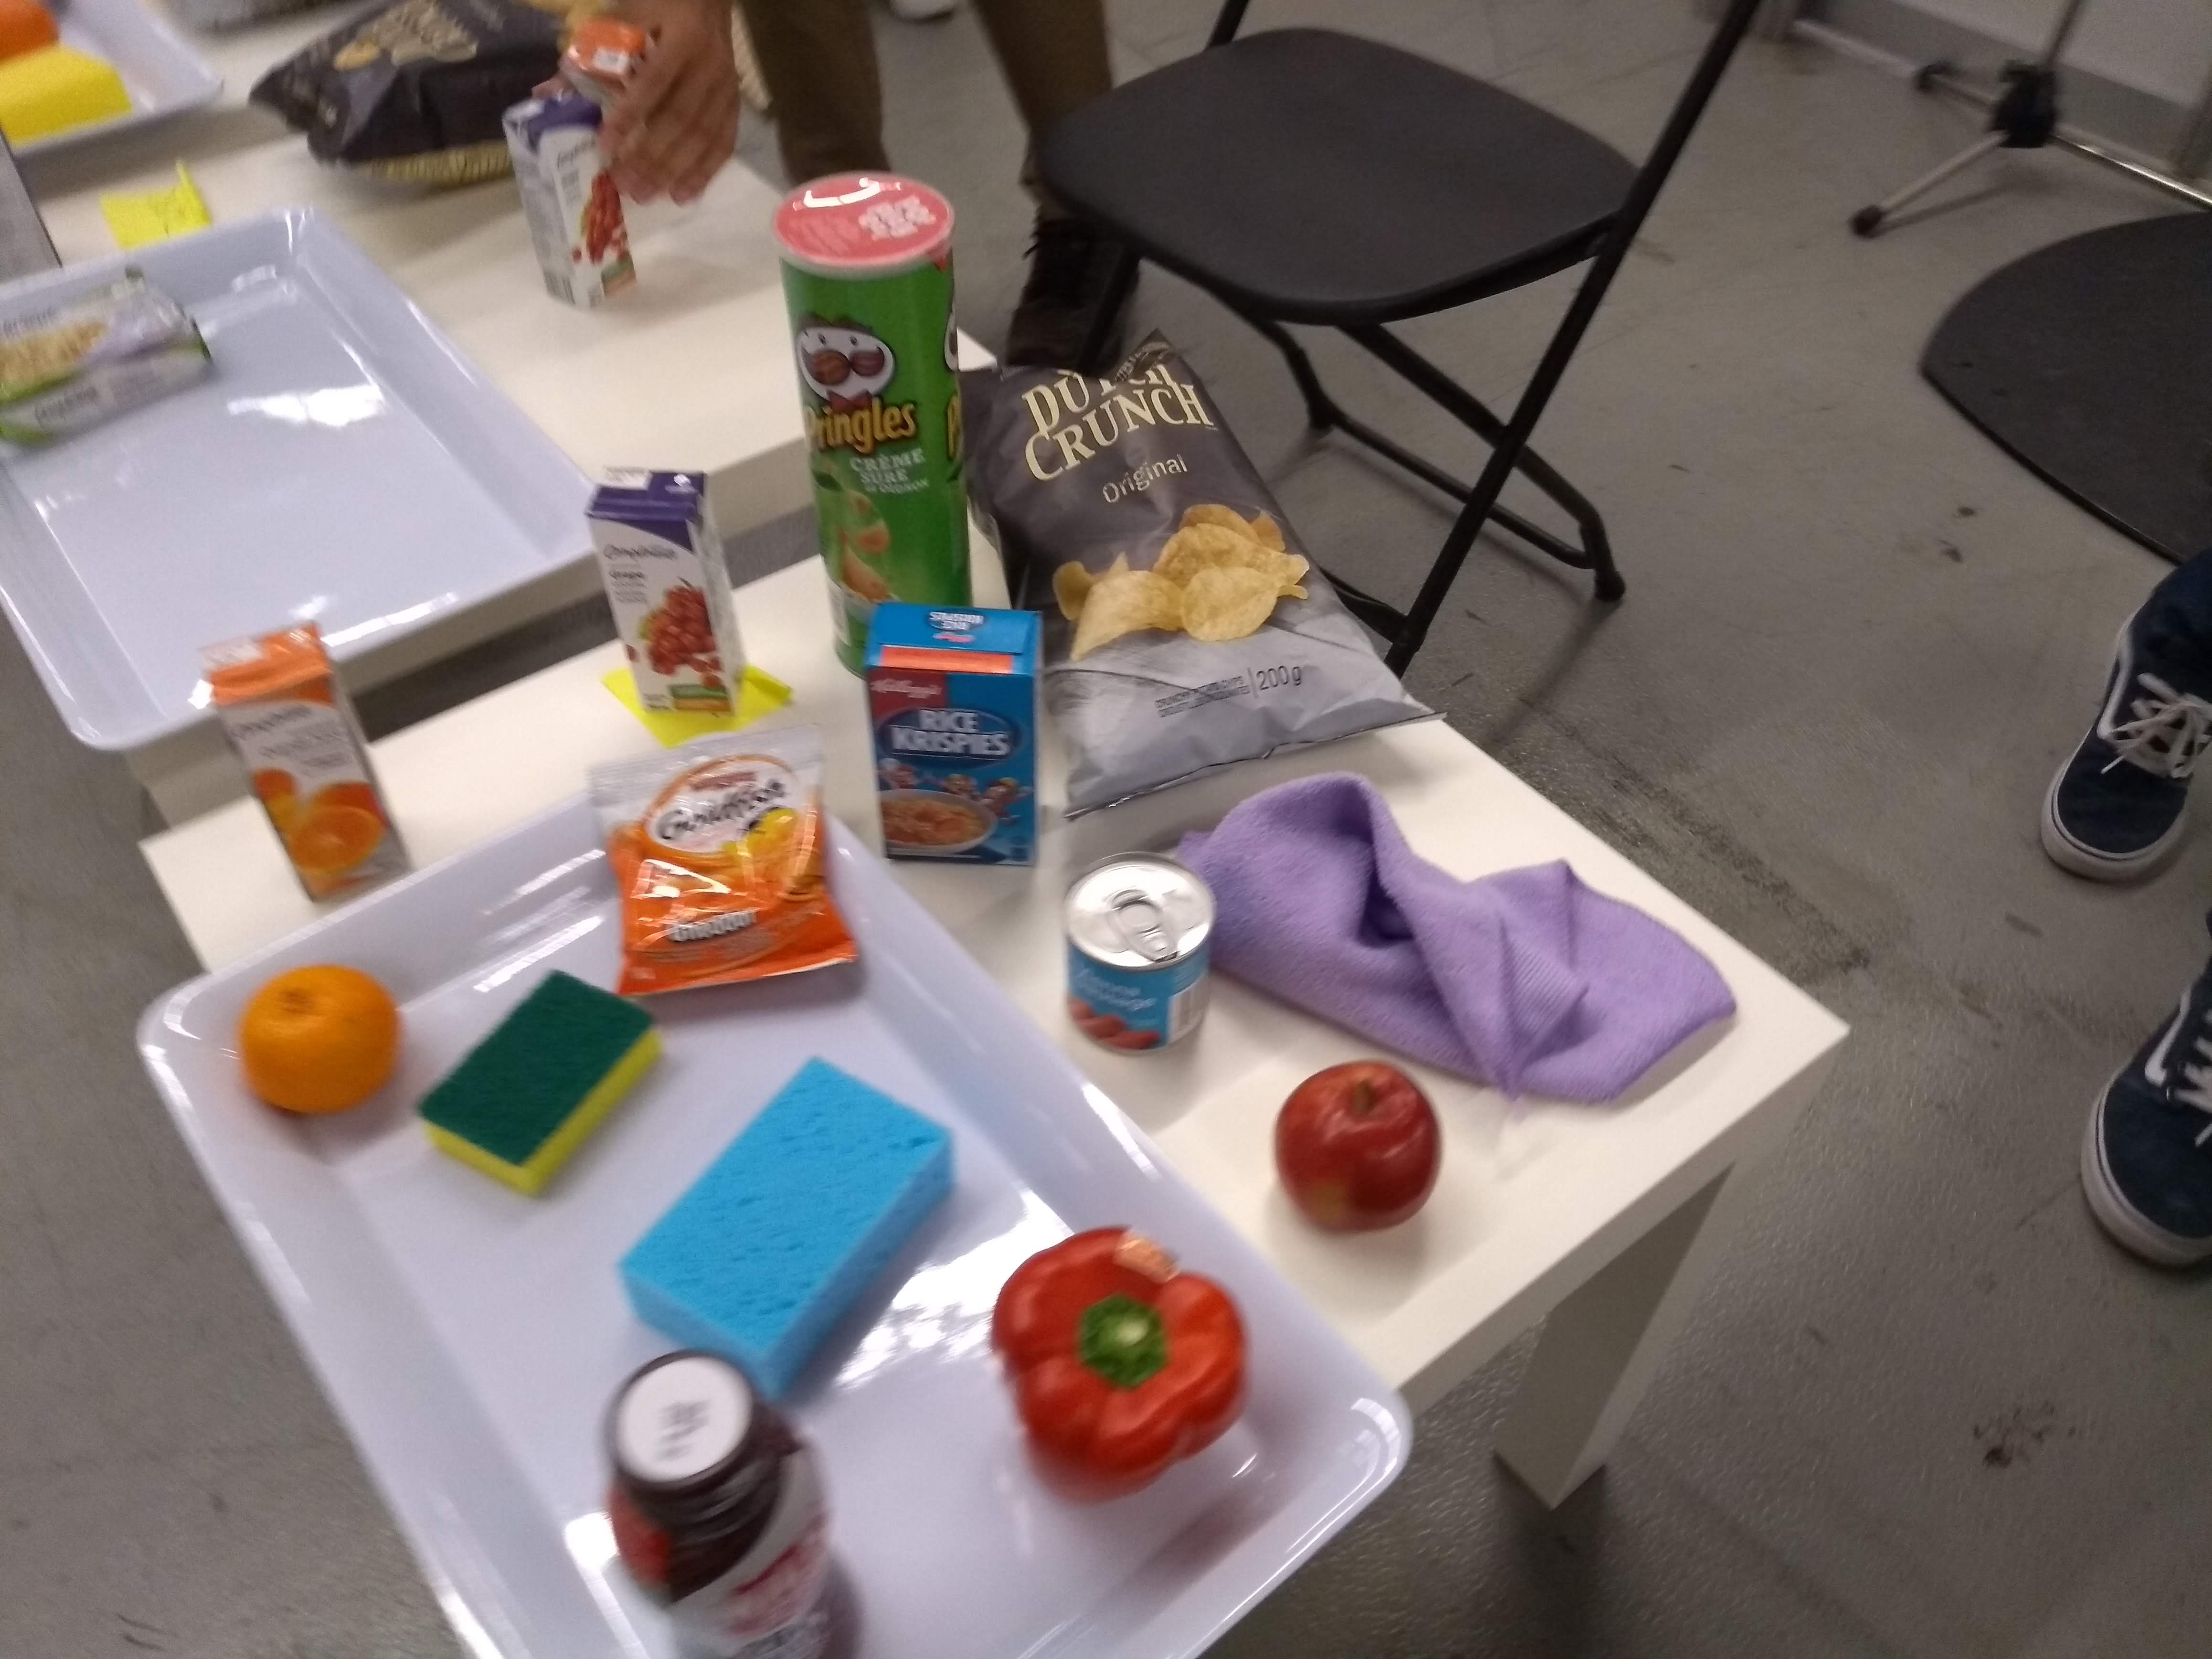apple: (1271, 1060, 1454, 1239)
cereal: (857, 592, 1057, 870)
cloth_opl: (1190, 772, 1747, 1115)
crackers: (582, 730, 866, 1000)
grape_juice: (587, 462, 754, 721), (489, 85, 636, 331)
orange: (237, 960, 408, 1127)
orange_juice: (197, 613, 423, 920)
paprika: (977, 1213, 1252, 1504)
potato_chips: (935, 314, 1449, 823)
pringles: (768, 162, 981, 610)
sausages: (1057, 847, 1221, 1060)
scrubby: (409, 965, 667, 1204)
sponge_opl: (615, 1049, 961, 1420)
